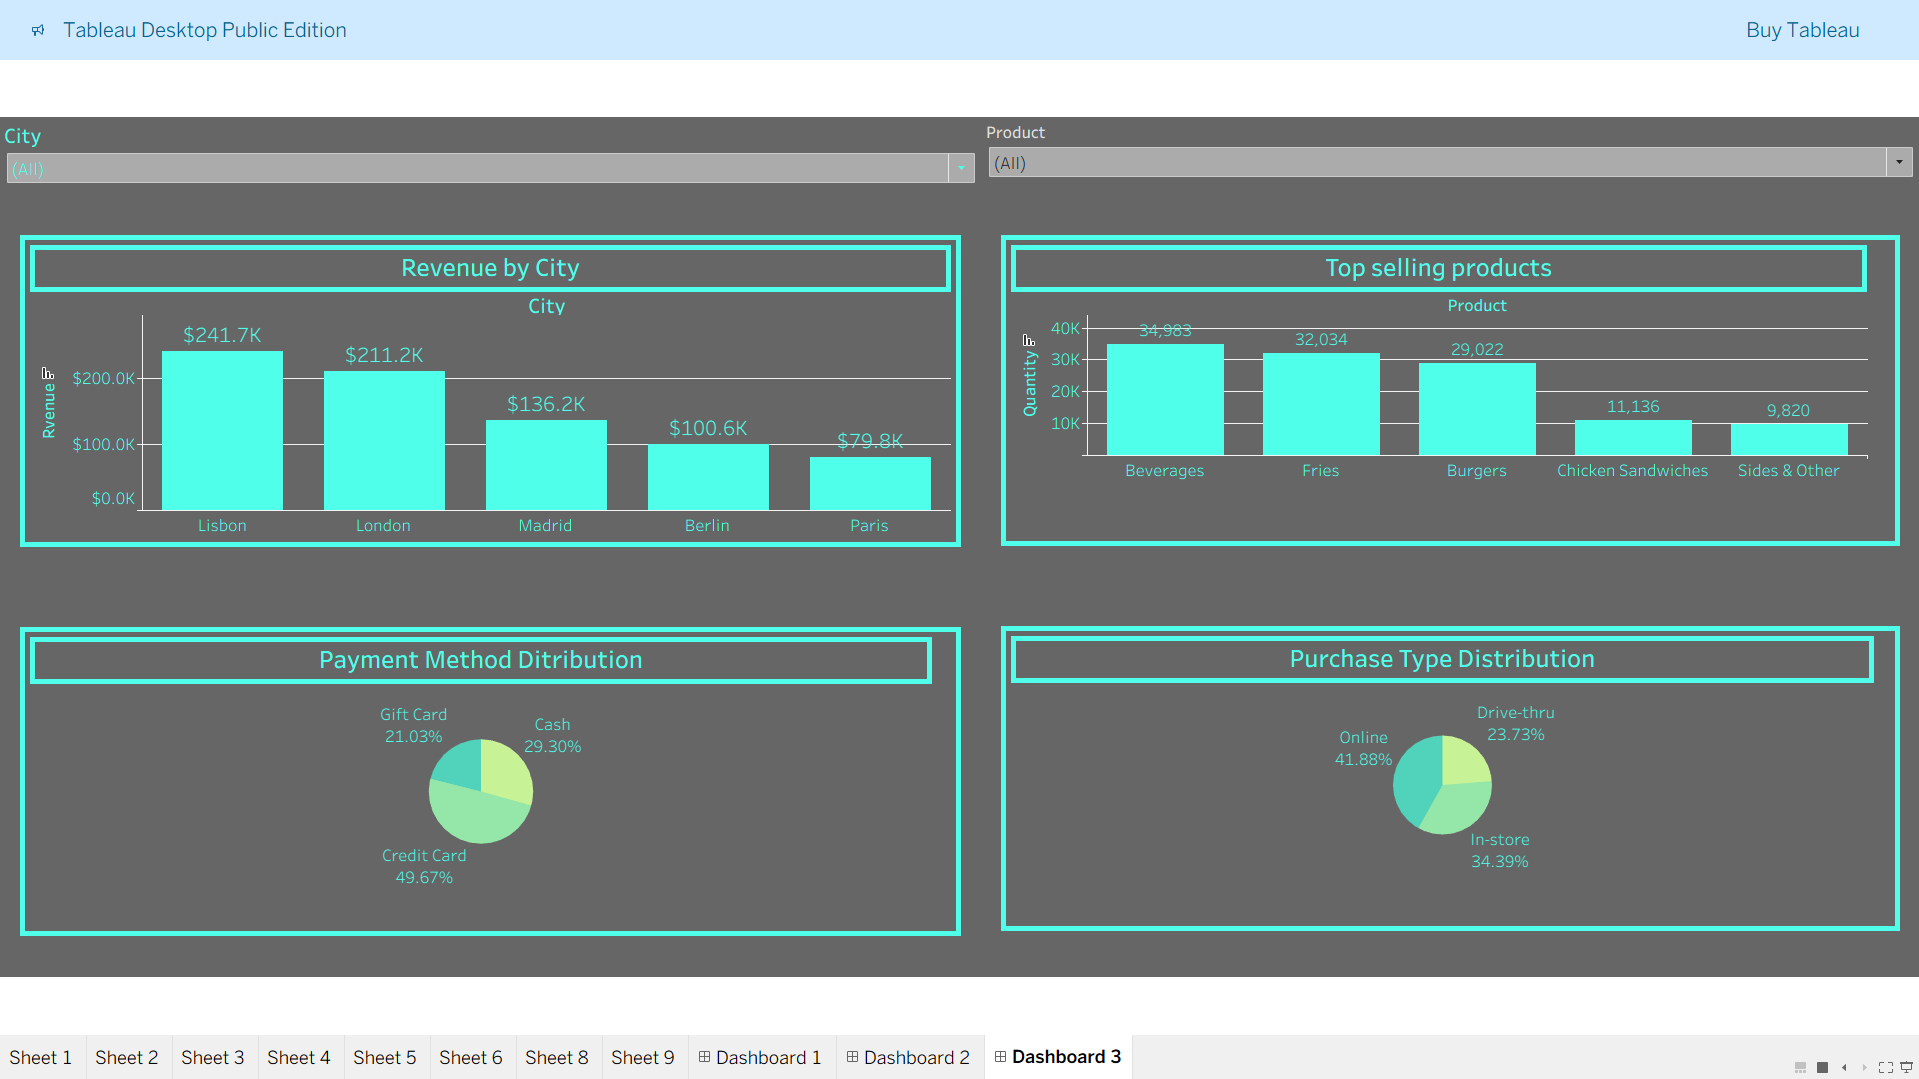

The dashboard page shown, as its layout file describes it:
{"tool":"tableau","page":{"name":"Dashboard 3","canvas":[1000,1000],"units":"permille","ordinal":2},"visuals":[{"type":"filter","title":"Sheet 2","param":"[federated.1ie1m7u1l36vdt12j5x5t0644w28].[none:City:nk]","box":[0,0,511.4,97.9]},{"type":"filter","title":"Sheet 3","param":"[federated.1ie1m7u1l36vdt12j5x5t0644w28].[none:Product:nk]","box":[511.4,0,488.6,113.9]},{"type":"worksheet","title":"Sheet 2","mark":"Automatic","rows":["Calculation_0645987791142912"],"cols":["City"],"box":[0,113.9,511.2,456.1]},{"type":"worksheet","title":"Sheet 3","mark":"Automatic","rows":["Quantity"],"cols":["Product"],"box":[511.2,113.9,488.8,454.9]},{"type":"worksheet","title":"Sheet 4","mark":"Pie","box":[511.2,568.8,488.8,431.2]},{"type":"worksheet","title":"Sheet 5","mark":"Pie","box":[0,570,511.2,430]}]}

Visuals, with their boxes on the dashboard's canvas, which has no fixed pixel size, in thousandths of its width and height (x1, y1, x2, y2). These are canvas units, not pixel positions in the 1919x1079 screenshot, which may show the page scaled, cropped or inside an application window:
"Sheet 2" filter: 0/0/511/98
"Sheet 3" filter: 511/0/1000/114
"Sheet 2" worksheet: 0/114/511/570
"Sheet 3" worksheet: 511/114/1000/569
"Sheet 4" worksheet (Pie marks): 511/569/1000/1000
"Sheet 5" worksheet (Pie marks): 0/570/511/1000
